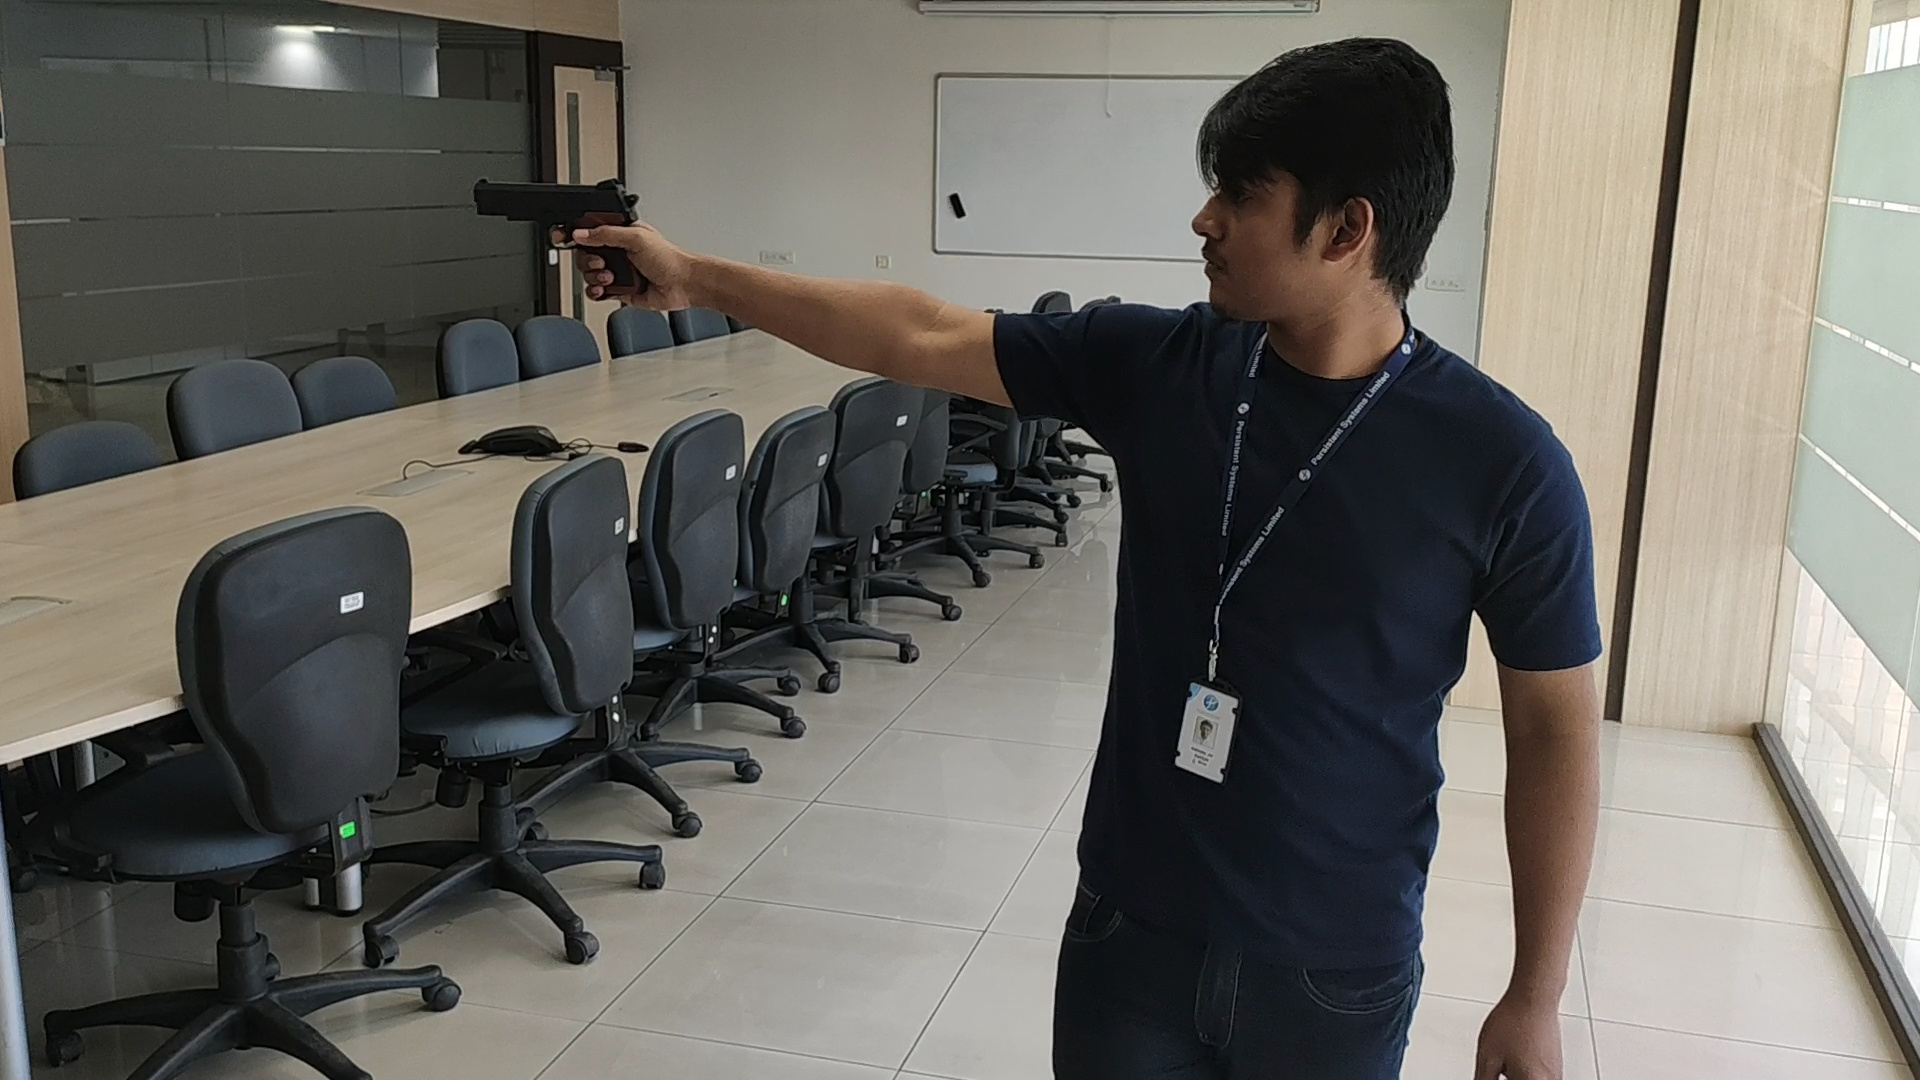gun: (467, 175, 645, 228)
